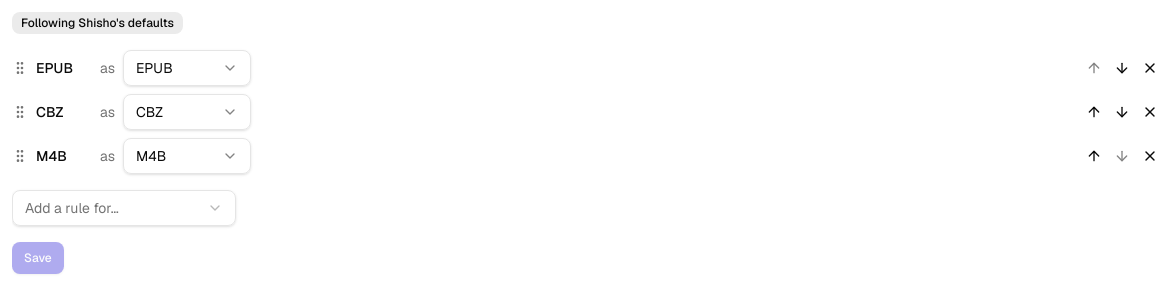
Test case: DeliveryRulesEditor › starts from the built-in rules and saves an edited copy as the user's own
Check: the text "Following Shisho's defaults" is shown, box top-left (12, 12), bottom-right (183, 34)
Check: the button "Save" is disabled, box top-left (12, 242), bottom-right (64, 274)
Click the button named "Move the CBZ rule up" at [1094, 112], box top-left (1080, 98), bottom-right (1108, 126)
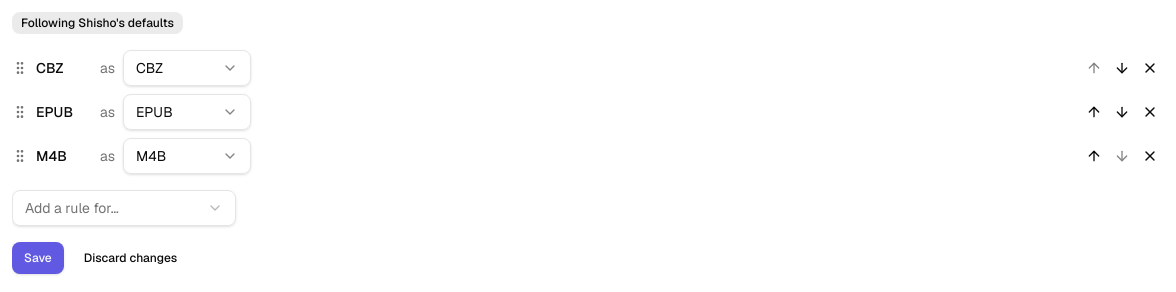
Click the button "Save" at [38, 258], box top-left (12, 242), bottom-right (64, 274)
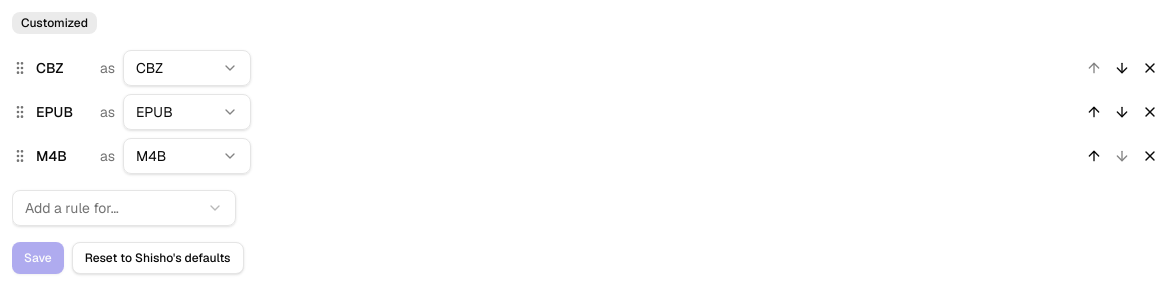
Check: the text "Customized" is shown, box top-left (12, 12), bottom-right (97, 34)
